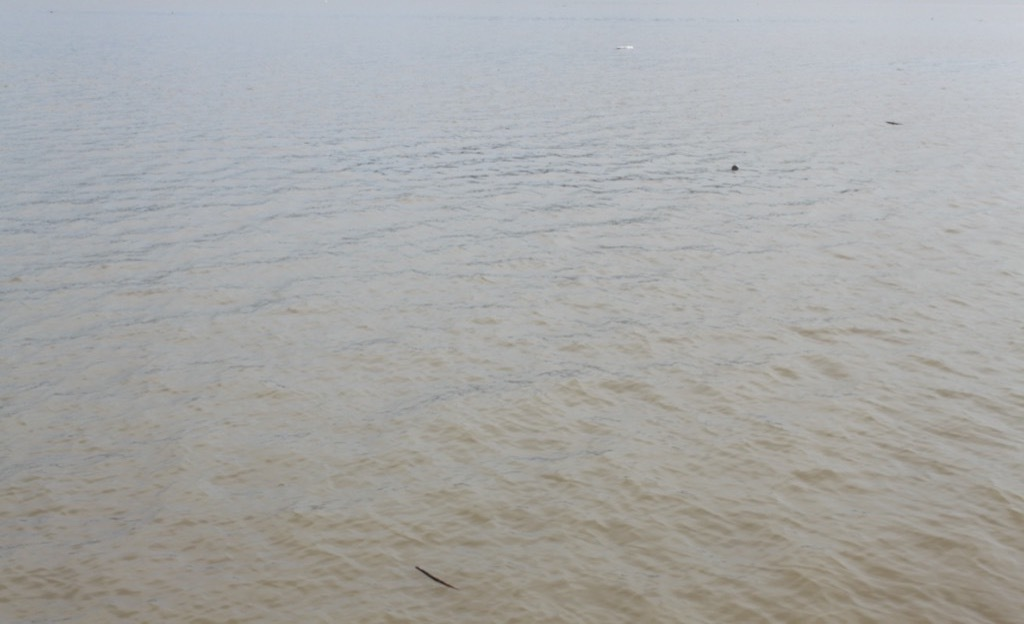organic: (403, 556, 469, 602), (720, 155, 748, 181), (881, 115, 908, 130)
plastic: (608, 36, 640, 58)
